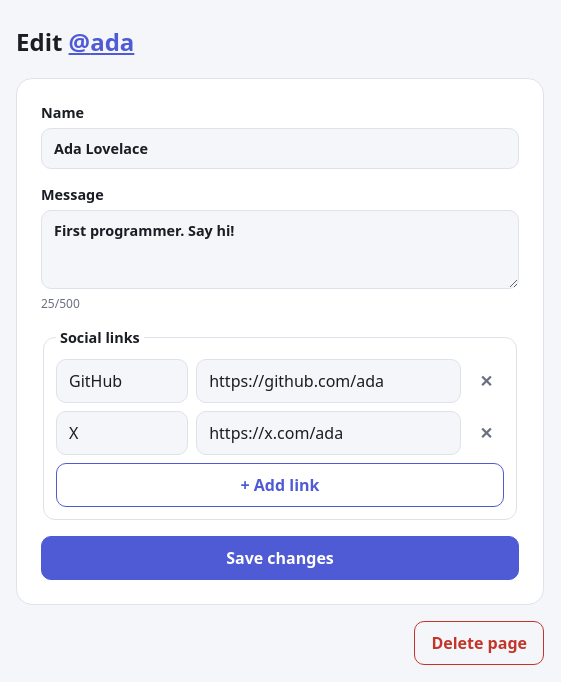
Test case: EditPage › deletes the page after confirmation
Click the button "Delete page" at (479, 643), box [414,621,544,665]
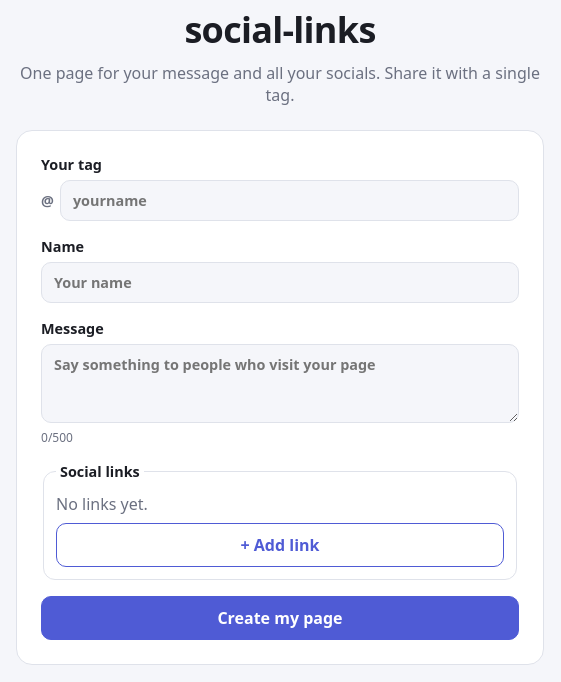
Check: the button "Create my page" is shown, box [41,596,519,640]
